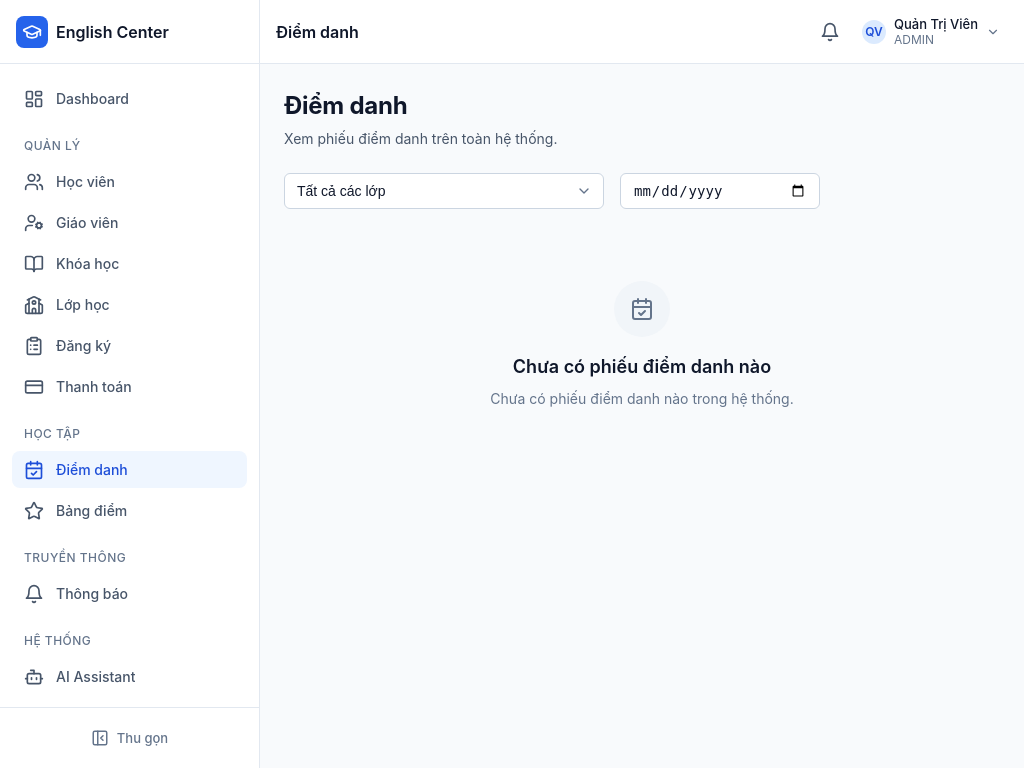
Test: AdminAttendancePage › shows filtered empty state when filters yield no sheets
This screenshot has width=1024, height=768.
Expected: the heading "Chưa có phiếu điểm danh nào" is shown, [513,353,771,380]
Select "Beginner Class B — English Foundation" in the dropdown named "Lọc theo lớp học". click: (444, 191)
box: [284,173,604,209]
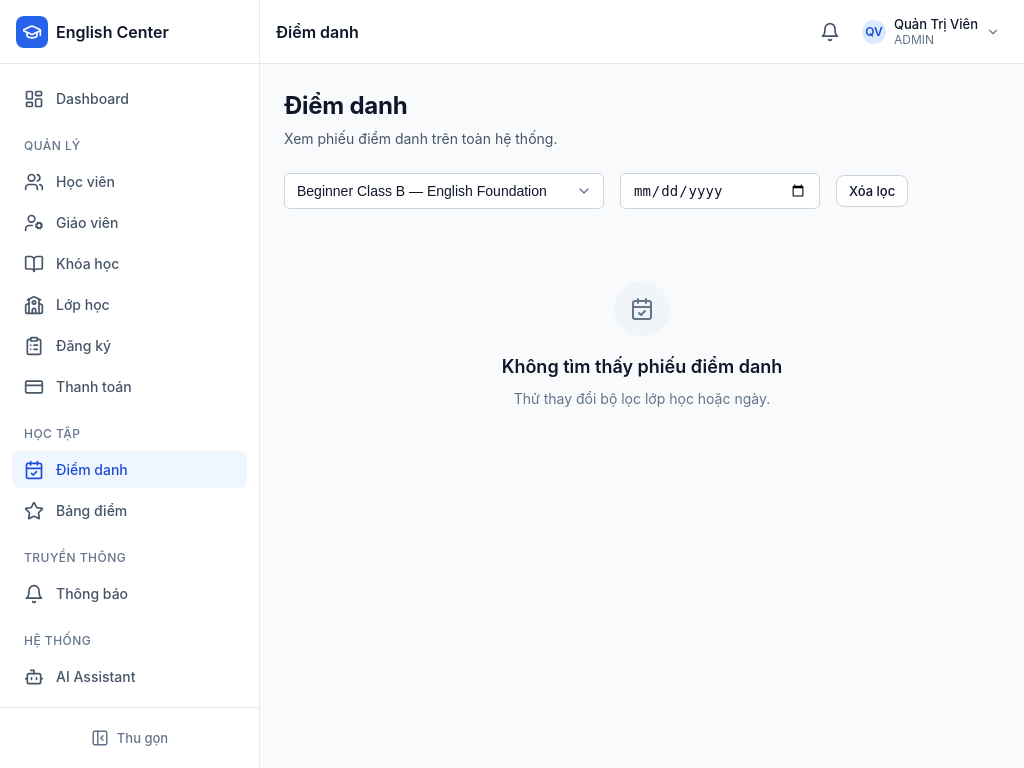
Now the heading "Không tìm thấy phiếu điểm danh" is shown, box [502,353,782,380]
